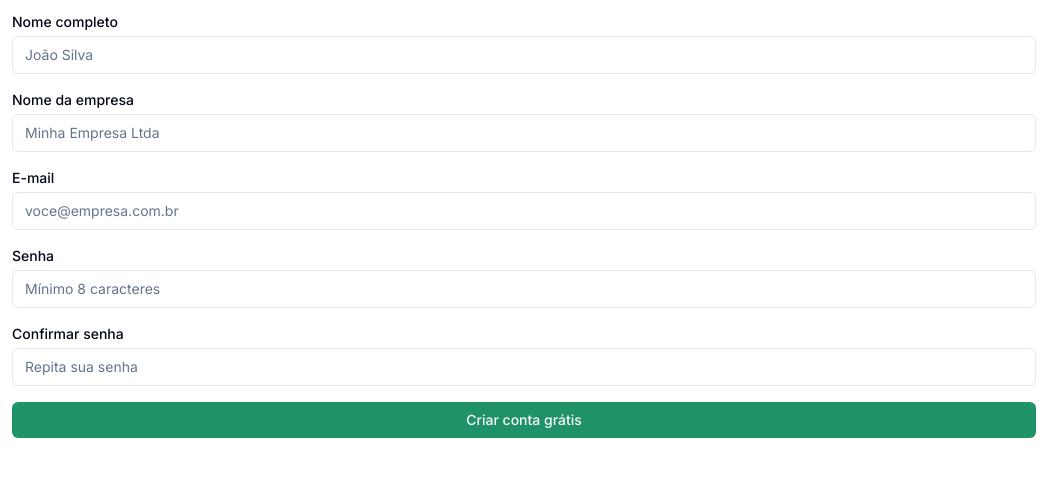
Scenario: RegisterForm › exibe erro quando senha tem menos de 8 caracteres
Type "João" into the field labelled "Nome completo" at x=524, y=55, box left=12, top=36, right=1036, bottom=74
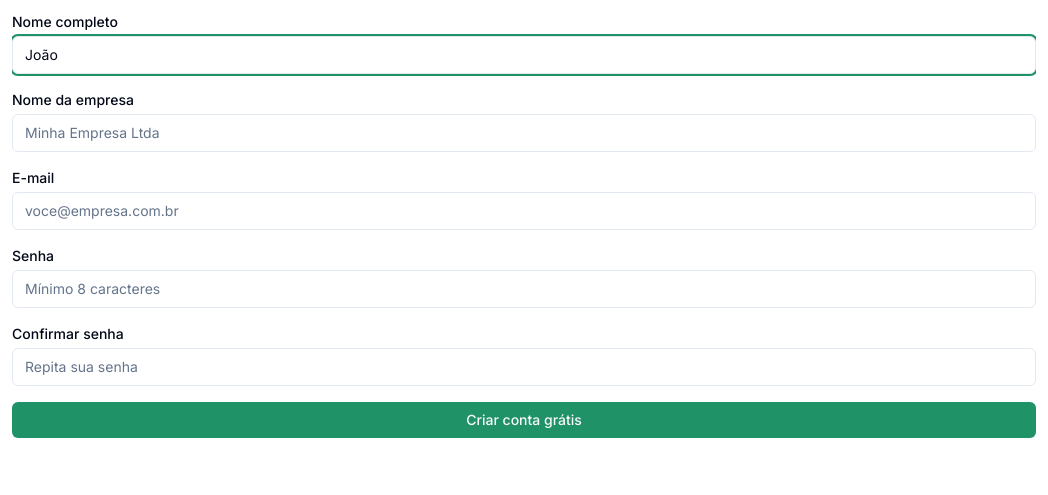
Type "Empresa" into the field labelled "Nome da empresa" at x=524, y=133, box left=12, top=114, right=1036, bottom=152
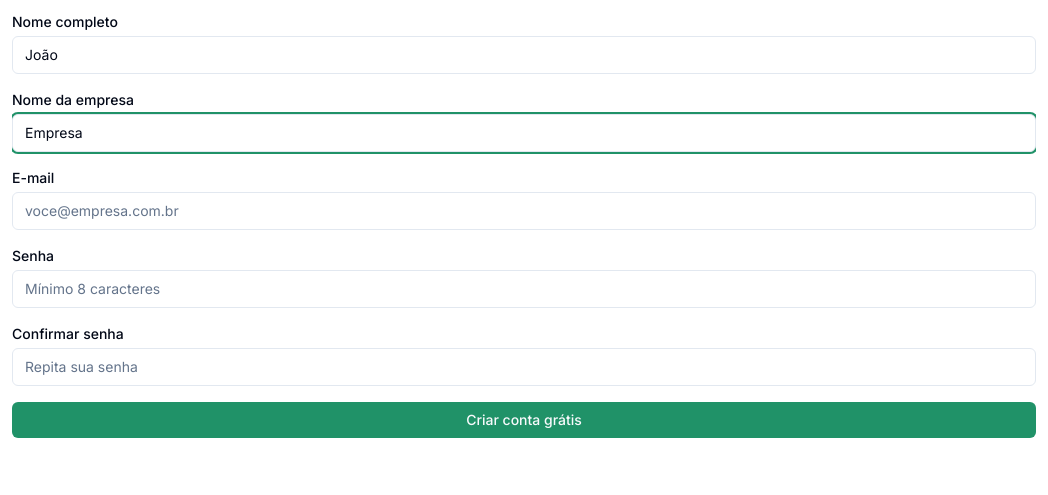
Type "j@e.com" into the field labelled "E-mail" at x=524, y=211, box left=12, top=192, right=1036, bottom=230
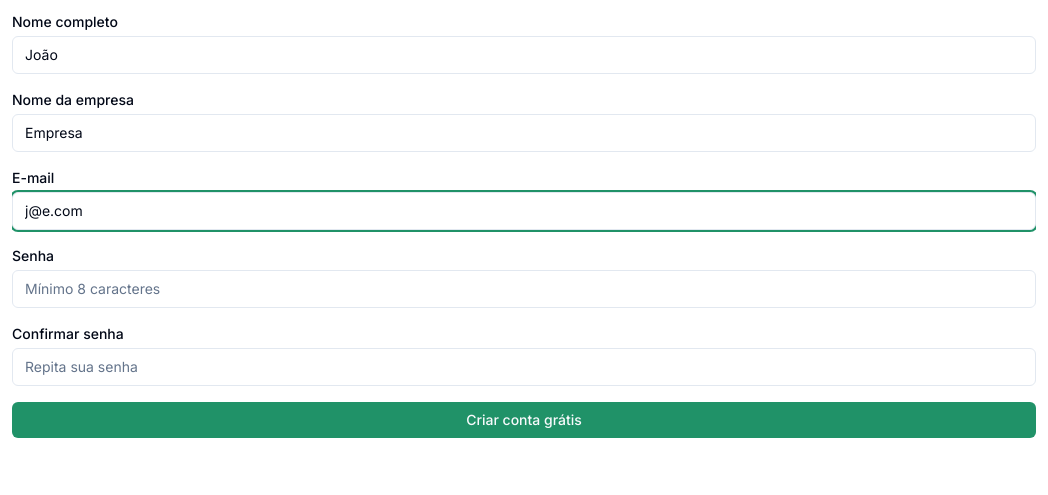
Type "Ab1" into the password field labelled "Senha" at x=524, y=289, box left=12, top=270, right=1036, bottom=308
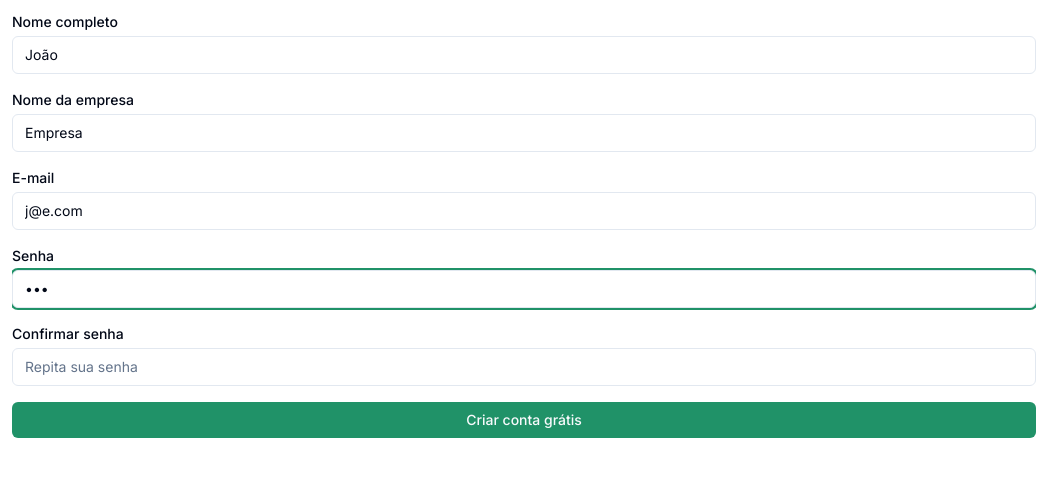
Click the button "Criar conta grátis" at x=524, y=420, box left=12, top=402, right=1036, bottom=438
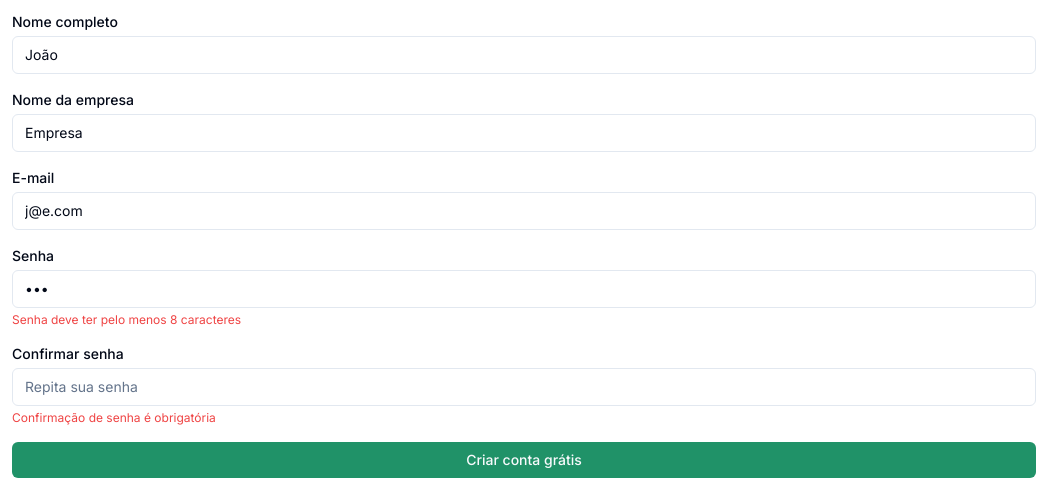
Expected: the text "Senha deve ter pelo menos 8 caracteres" is shown, left=12, top=312, right=241, bottom=327
